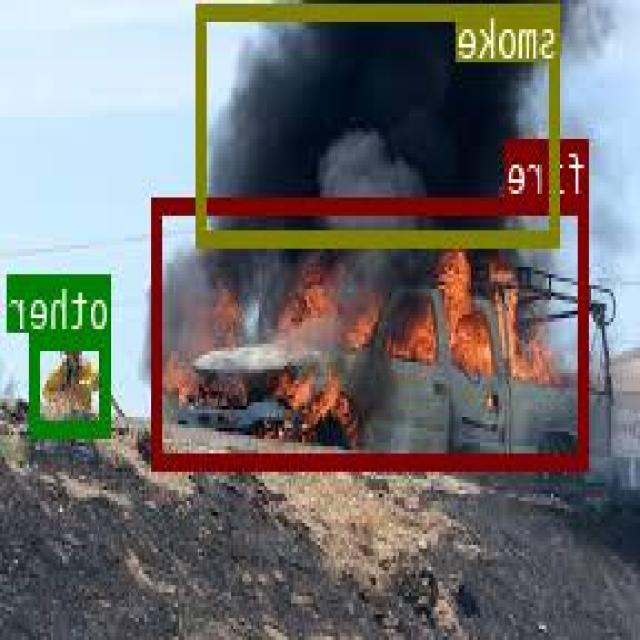fire: (155, 196, 590, 466)
other: (32, 332, 112, 432)
smoke: (200, 2, 560, 242)
